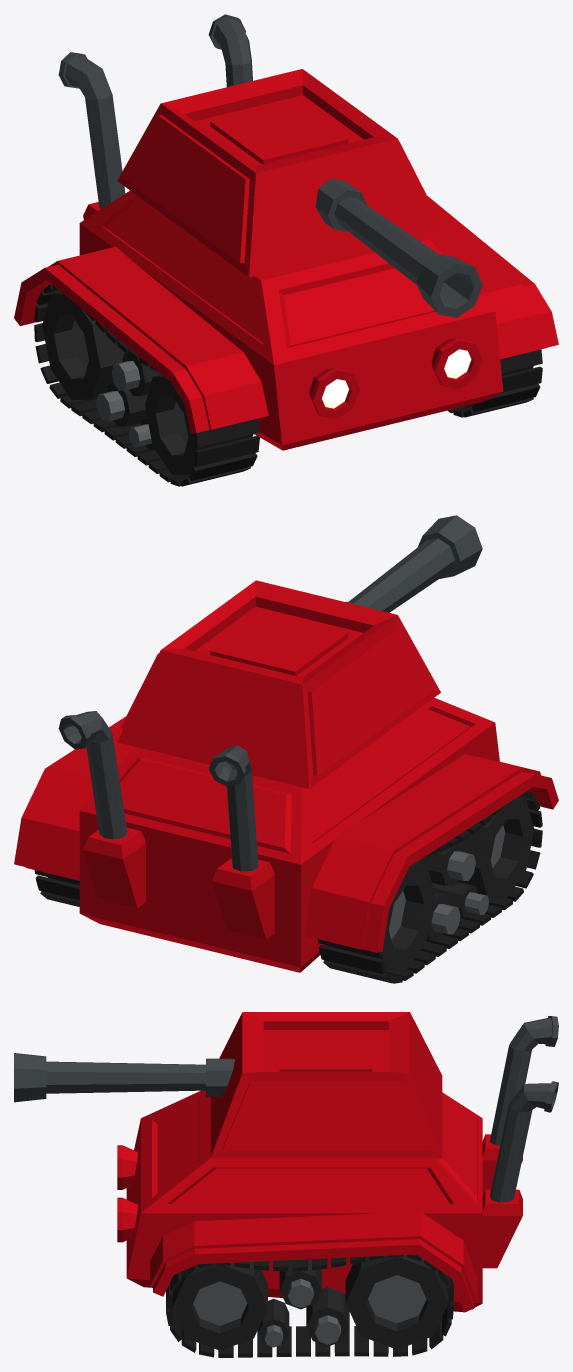
File: Tanque #2.fbx
The picture shows the model from 3 angles, top to bottom: view 1: azimuth 30°, elevation 25°; view 2: azimuth 150°, elevation 25°; view 3: azimuth 270°, elevation 25°; orthographic projection. The views are drawn at different scales.
Parts seen in each view (by area): view 1: body, head, mudflaps, thread, cannon, exhausts, rear wheel, headlights, front wheel, mid rear wheel, mid top wheel; view 2: head, body, mudflaps, exhausts, thread, cannon, front wheel, rear wheel, mid top wheel, mid front wheel, mid rear wheel; view 3: body, head, mudflaps, exhausts, rear wheel, cannon, front wheel, thread, mid rear wheel, headlights, mid top wheel, mid front wheel.
Boxes of the visible parts, x1,y1,x2,y2 form: body: (79, 190, 503, 450); head: (117, 69, 440, 277); mudflaps: (14, 196, 558, 433); thread: (34, 284, 542, 486); cannon: (315, 178, 482, 317); exhausts: (58, 14, 252, 219); rear wheel: (42, 292, 124, 399); headlights: (309, 338, 482, 419); front wheel: (145, 366, 533, 474); mid rear wheel: (96, 381, 147, 426); mid top wheel: (111, 352, 160, 395); head: (117, 580, 440, 788); body: (79, 697, 499, 972); mudflaps: (14, 716, 558, 952); exhausts: (58, 711, 274, 939); thread: (34, 790, 542, 983); cannon: (346, 515, 482, 612); front wheel: (458, 797, 534, 897); rear wheel: (47, 862, 435, 970); mid top wheel: (416, 842, 475, 886); mid front wheel: (432, 881, 489, 917); mid rear wheel: (427, 892, 460, 939); body: (126, 1090, 482, 1312); head: (210, 1012, 442, 1158); mudflaps: (150, 1211, 477, 1311); exhausts: (482, 1016, 558, 1268); rear wheel: (345, 1255, 448, 1349); cannon: (14, 1053, 234, 1102); front wheel: (172, 1261, 267, 1350); thread: (166, 1254, 453, 1357); mid rear wheel: (306, 1287, 349, 1346); headlights: (117, 1145, 137, 1242); mid top wheel: (279, 1259, 321, 1309); mid front wheel: (258, 1298, 289, 1347).
Bounding box in the file's own units: 328 × 237 × 485.
